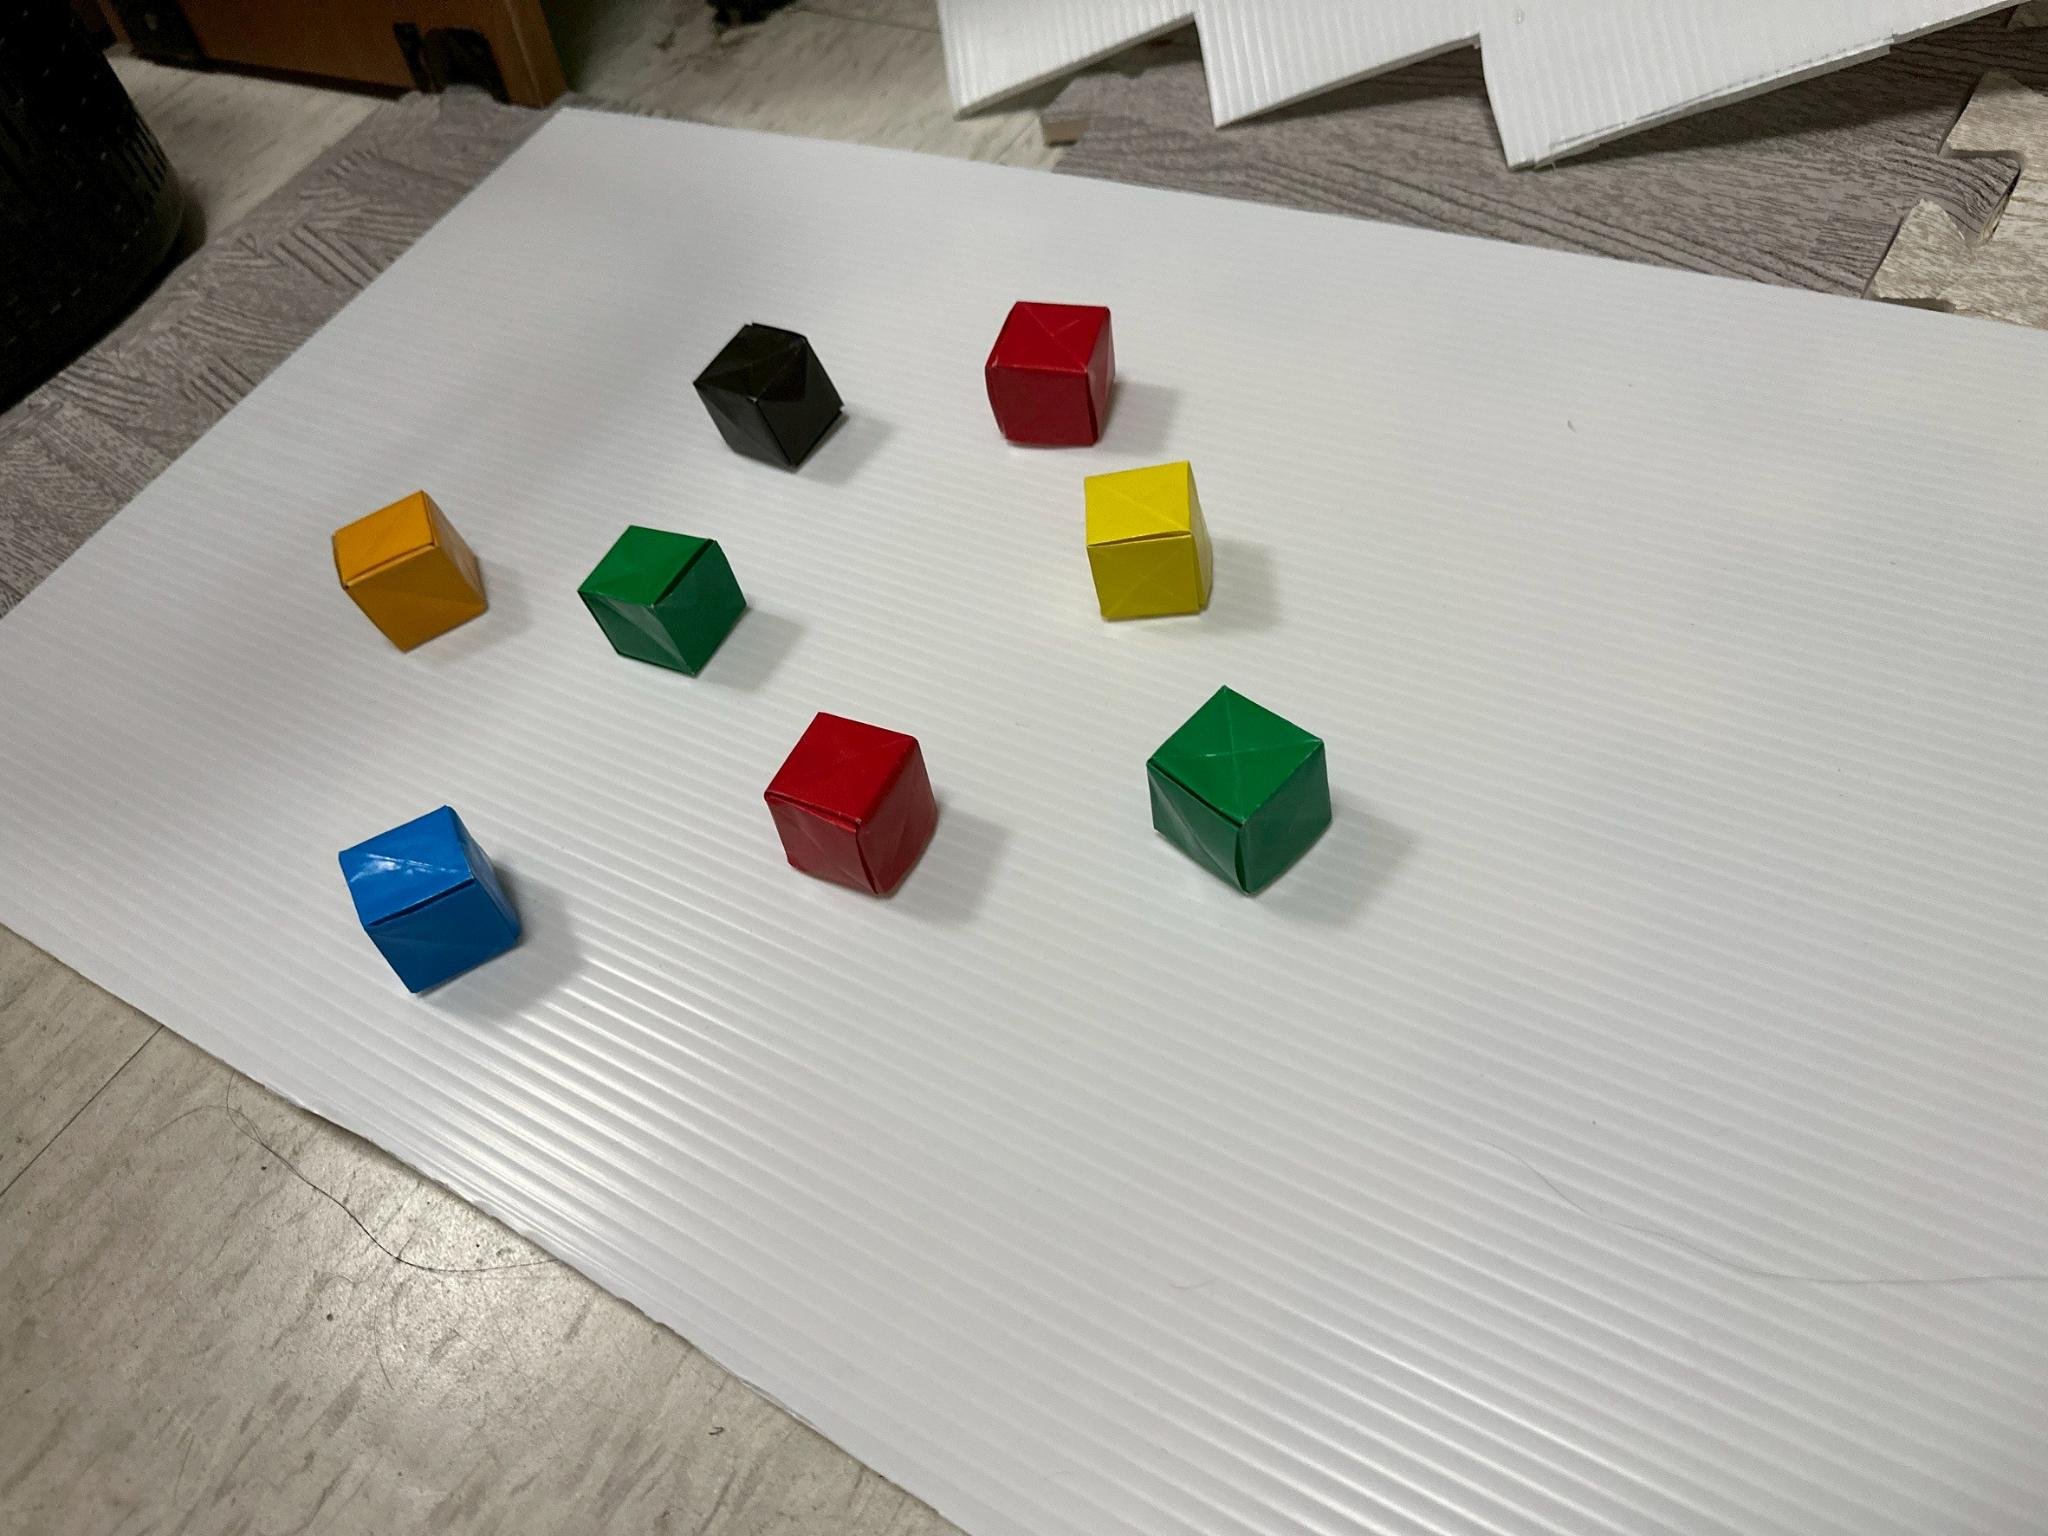cube: (1147, 687, 1330, 895), (339, 808, 521, 992), (764, 713, 935, 895), (579, 526, 745, 676), (332, 494, 485, 650), (695, 324, 842, 468), (1085, 461, 1211, 620), (985, 300, 1113, 447)
